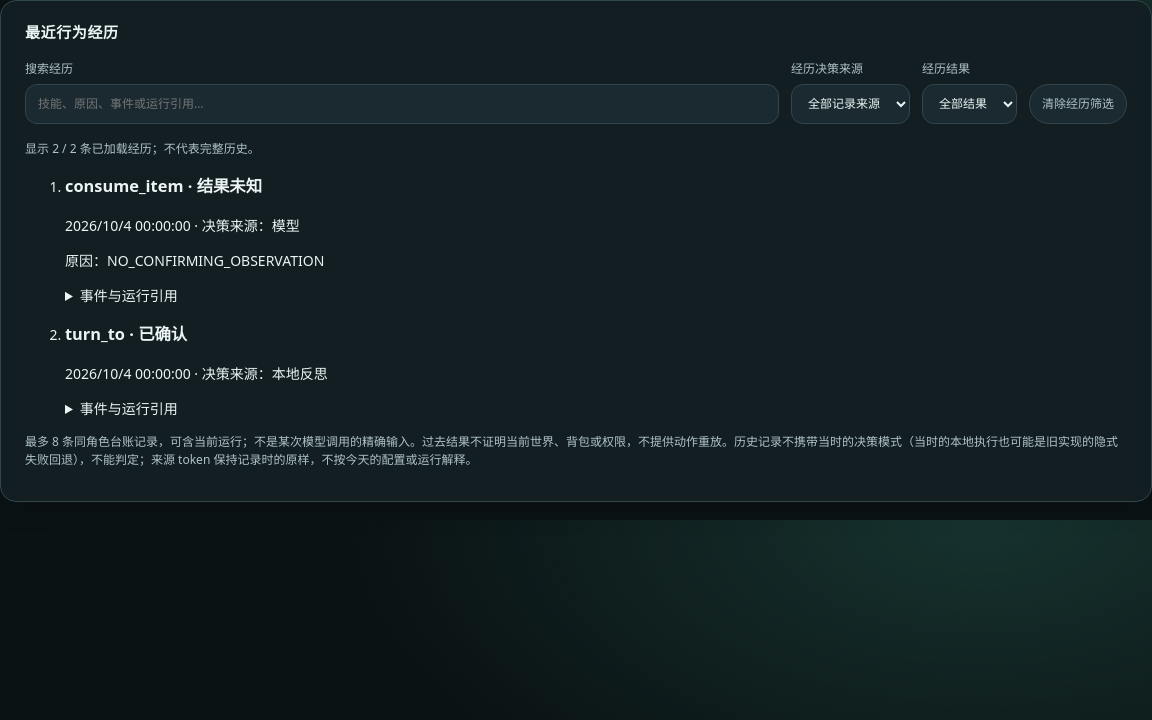
Test: 历史记录不被今天的策略改写 › 按记录来源和结果组合筛选、搜索理由，并可清除而不重写历史
Select "模型" in the dropdown labelled "经历决策来源" at (850, 104), box [791,84,910,124]
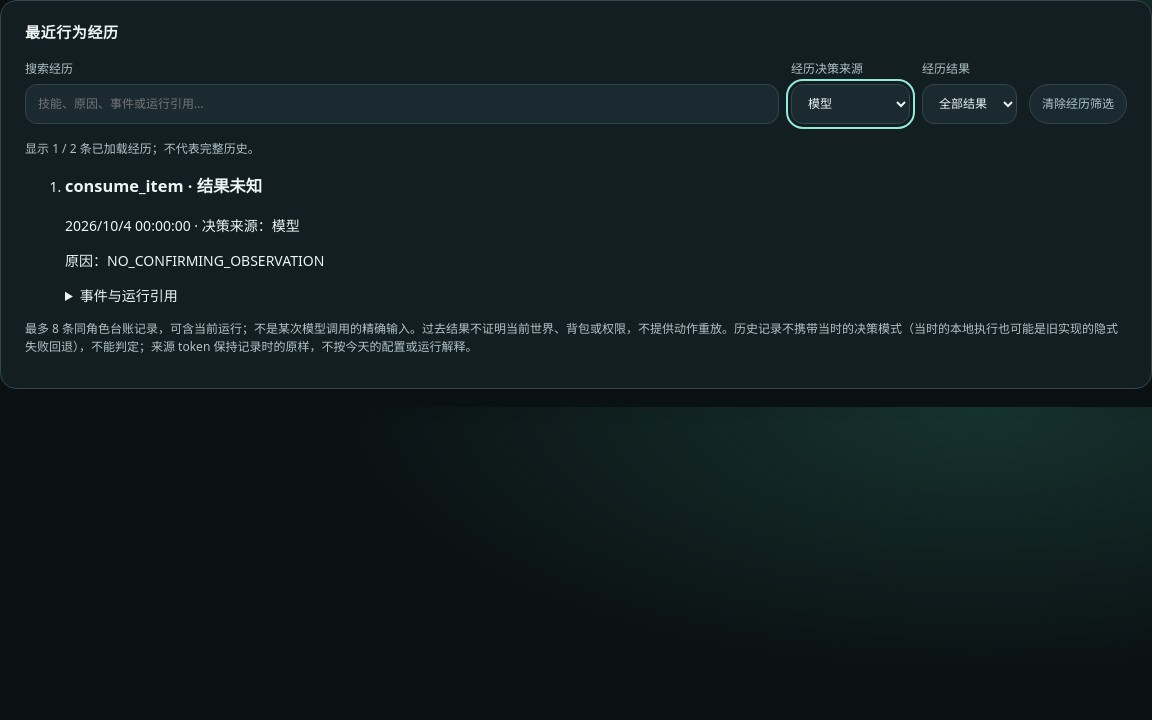
Select "结果未知" in the dropdown labelled "经历结果" at (970, 104), box [922,84,1017,124]
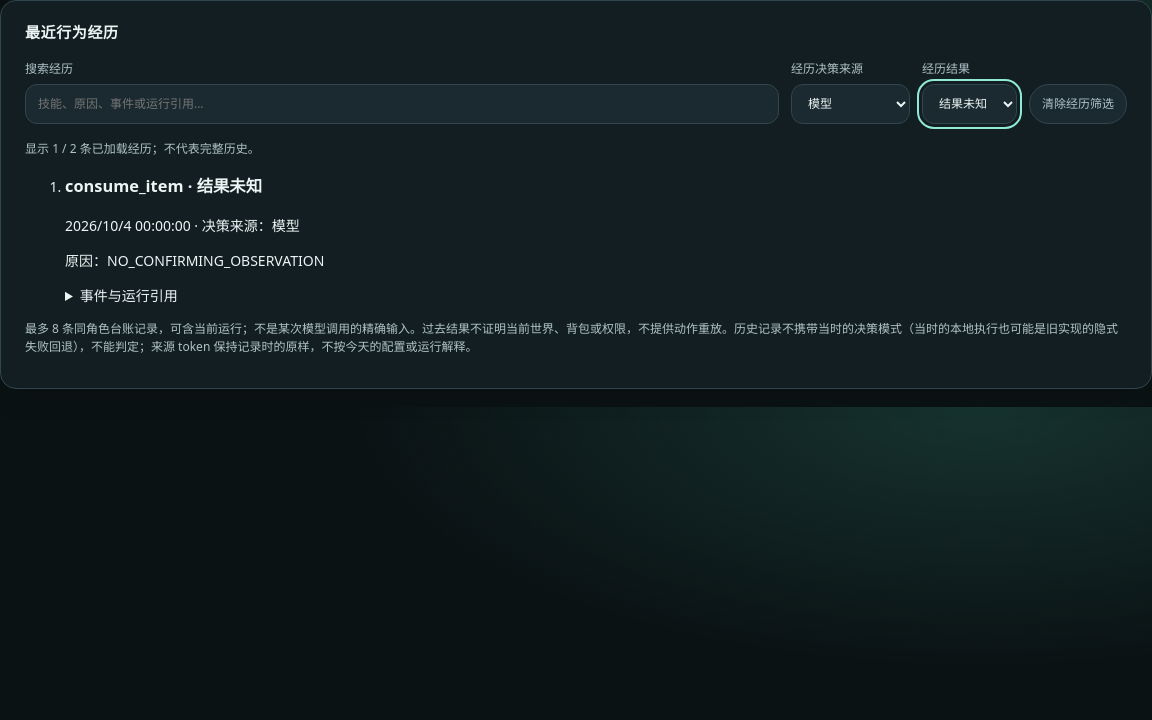
Type "no_confirming" into the search field labelled "搜索经历" at (402, 104), box [25,84,779,124]
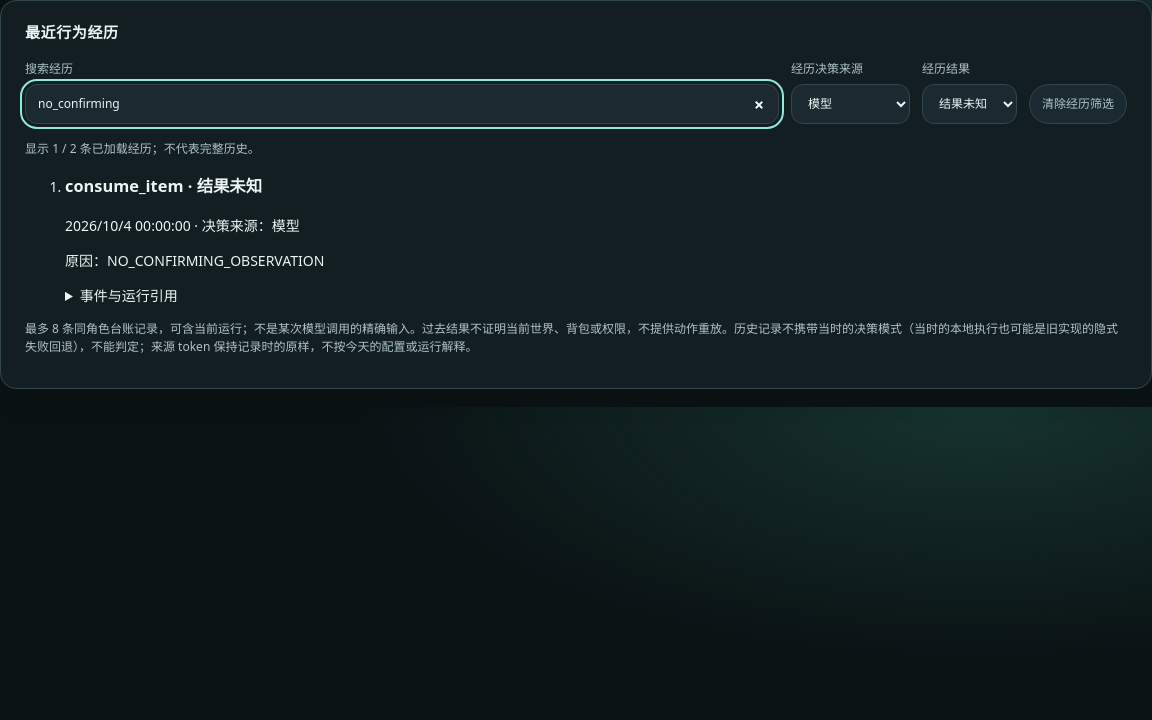
Expected: the heading "consume_item · 结果未知" is shown, [65,175,262,197]
Expected: the message shows "显示 1 / 2", [25,140,260,156]
Click the button "清除经历筛选" at (1078, 104), box [1029,84,1127,124]
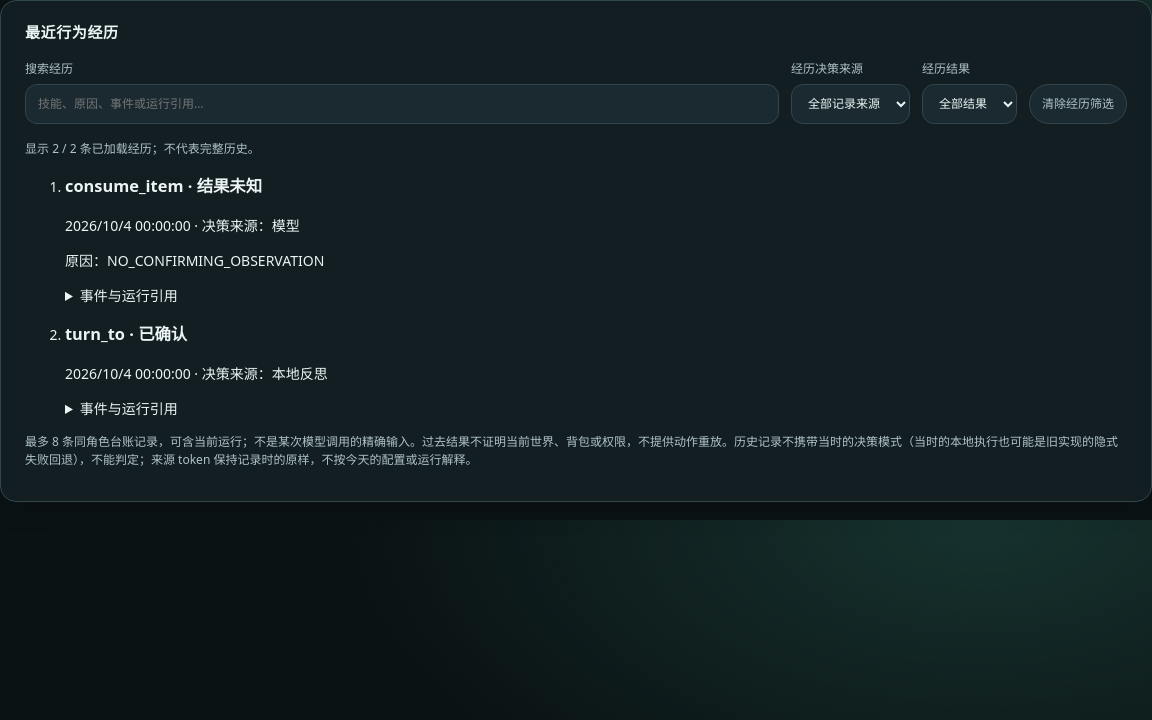
Expected: the heading "turn_to · 已确认" is shown, [65,323,187,345]
Expected: the message shows "显示 2 / 2", [25,140,260,156]
